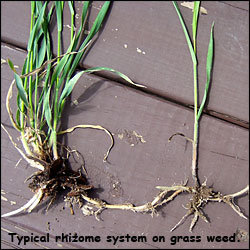crabgrass: (6, 3, 119, 164), (163, 1, 233, 183)
